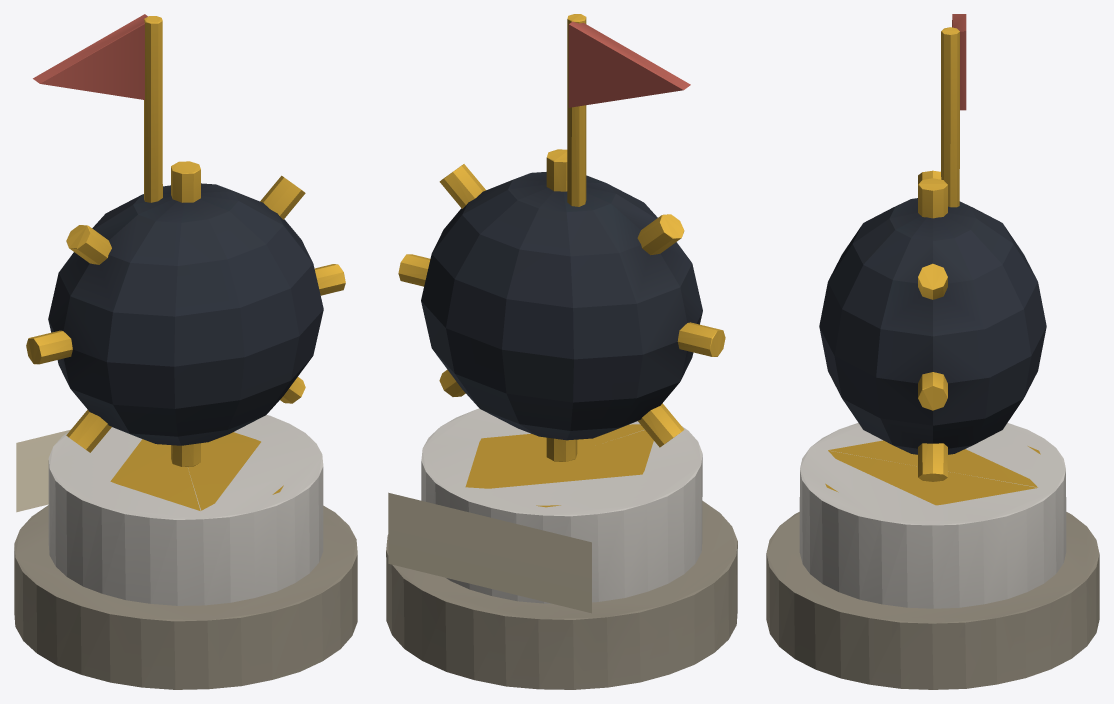
The model's file is trophy_mines_low.glb.
3 renders of one model, left to right at view 1: azimuth 30°, elevation 25°; view 2: azimuth 150°, elevation 25°; view 3: azimuth 270°, elevation 25°, orthographic. The views are drawn at different scales.
Visible parts, largest first — view 1: common_pedestal, symbol, trophy_plate; view 2: symbol, common_pedestal, trophy_plate; view 3: common_pedestal, symbol.
Part boxes in pixels (x1=…): common_pedestal: x1=14, y1=415, x2=357, y2=689; symbol: x1=26, y1=14, x2=345, y2=466; trophy_plate: x1=16, y1=429, x2=70, y2=512; symbol: x1=398, y1=14, x2=725, y2=461; common_pedestal: x1=386, y1=408, x2=737, y2=689; trophy_plate: x1=388, y1=492, x2=591, y2=613; common_pedestal: x1=766, y1=423, x2=1099, y2=689; symbol: x1=819, y1=14, x2=1046, y2=481.
Bounding box in the file's own units: 0.92 × 1.72 × 0.8987.
